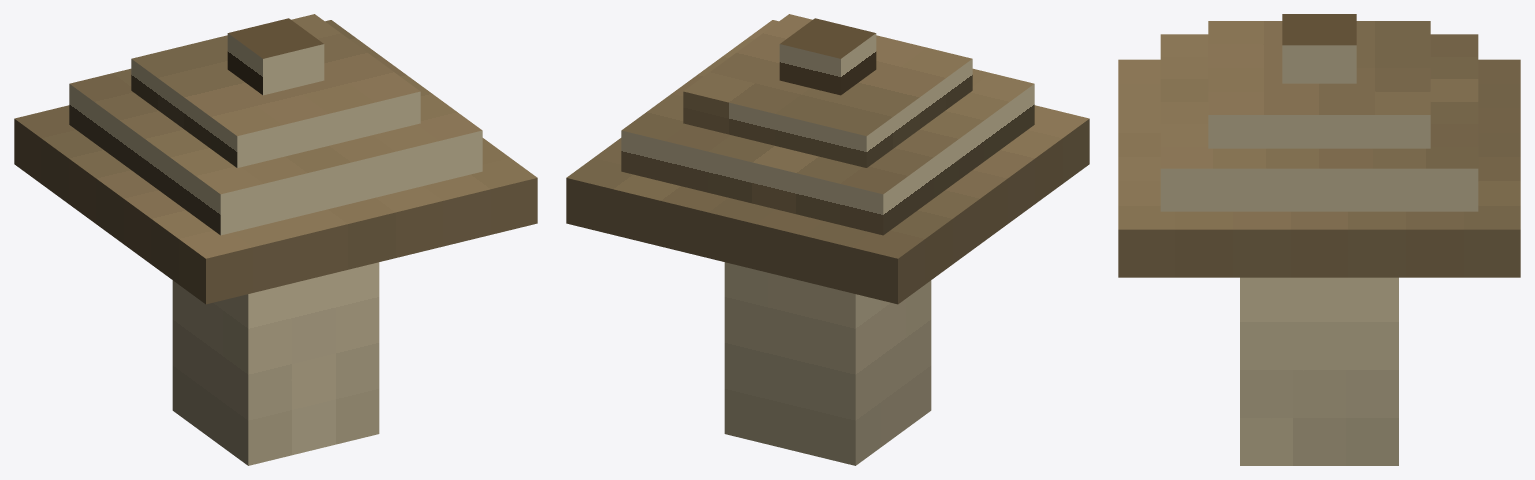
File: kora.gltf
3 renders of one model, left to right at view 1: azimuth 30°, elevation 25°; view 2: azimuth 150°, elevation 25°; view 3: azimuth 270°, elevation 25°, orthographic. The views are drawn at different scales.
Parts seen in each view (by area): view 1: ring1, stem, ring2, ring3, ridge; view 2: ring1, stem, ring2, ring3, ridge; view 3: ring1, ring2, stem, ring3, ridge.
Boxes of the visible parts, box(x1,y1,x2,y2) form: ring1: box(14, 105, 537, 304); stem: box(172, 262, 379, 465); ring2: box(69, 20, 482, 235); ring3: box(131, 14, 420, 167); ridge: box(227, 18, 324, 95); ring1: box(566, 105, 1089, 304); stem: box(724, 262, 931, 465); ring2: box(621, 20, 1034, 235); ring3: box(683, 14, 972, 167); ridge: box(779, 18, 876, 95); ring1: box(1118, 59, 1520, 277); ring2: box(1160, 34, 1478, 211); stem: box(1240, 277, 1398, 465); ring3: box(1208, 21, 1430, 148); ridge: box(1282, 14, 1356, 83).
Size of the model in its own units: 0.475 by 0.525 by 0.475.
1 material, 1 textured.
